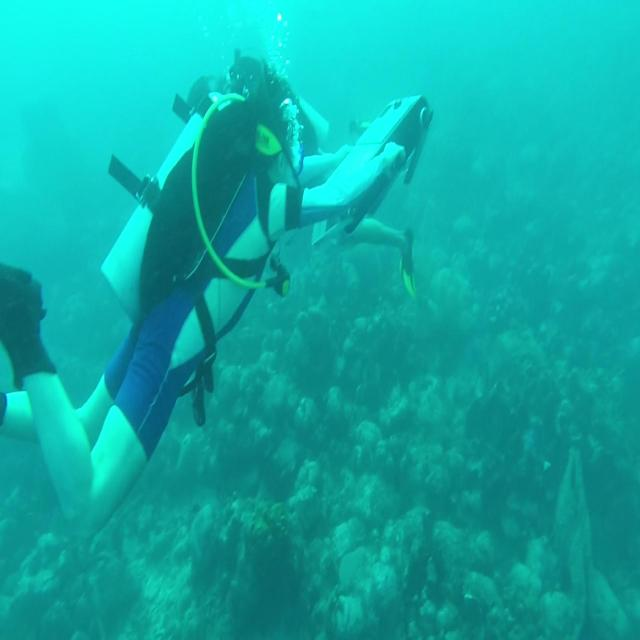human: (1, 53, 328, 541)
